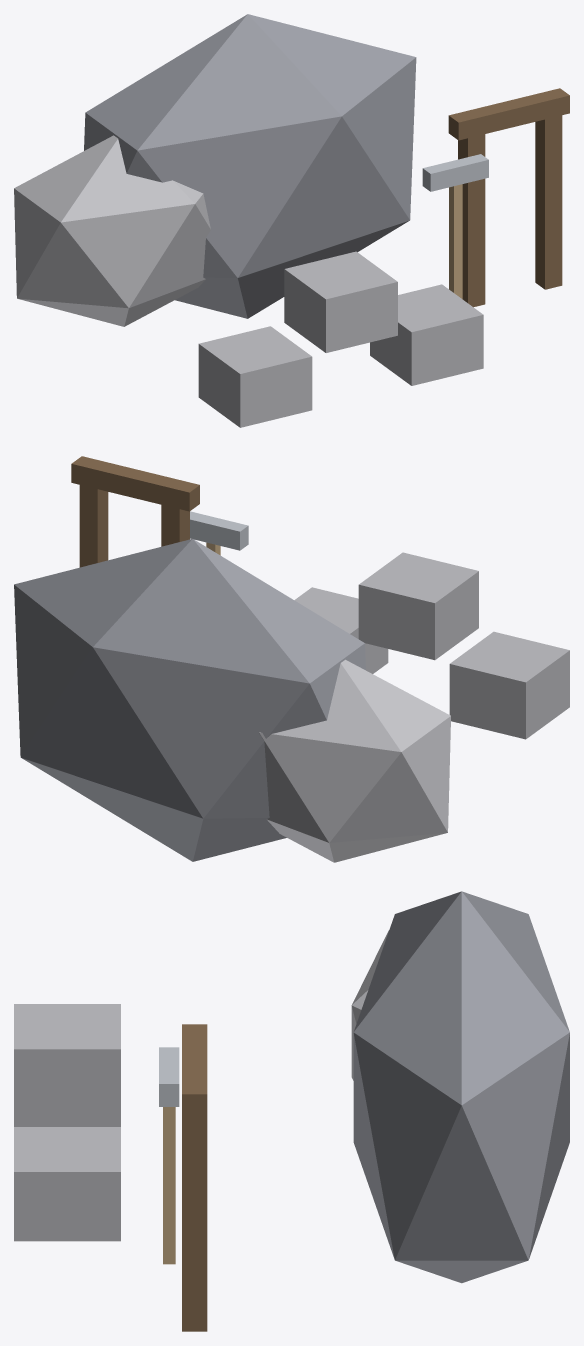
File: quarry.glb
3 views of the same model, one above another, from view 1: azimuth 30°, elevation 25°; view 2: azimuth 150°, elevation 25°; view 3: azimuth 270°, elevation 25° (orthographic). The views are drawn at different scales.
Visible parts, largest first — view 1: QuarryFace; view 2: QuarryFace; view 3: QuarryFace.
Part boxes in pixels (x1,y1,x2,y2): QuarryFace: (14,14,569,427); QuarryFace: (14,456,569,862); QuarryFace: (14,891,569,1331).
Bounding box in the file's own units: 2.62 × 1.7 × 2.19.
